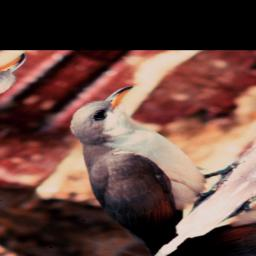Cuckoo: (0, 80, 256, 256)
